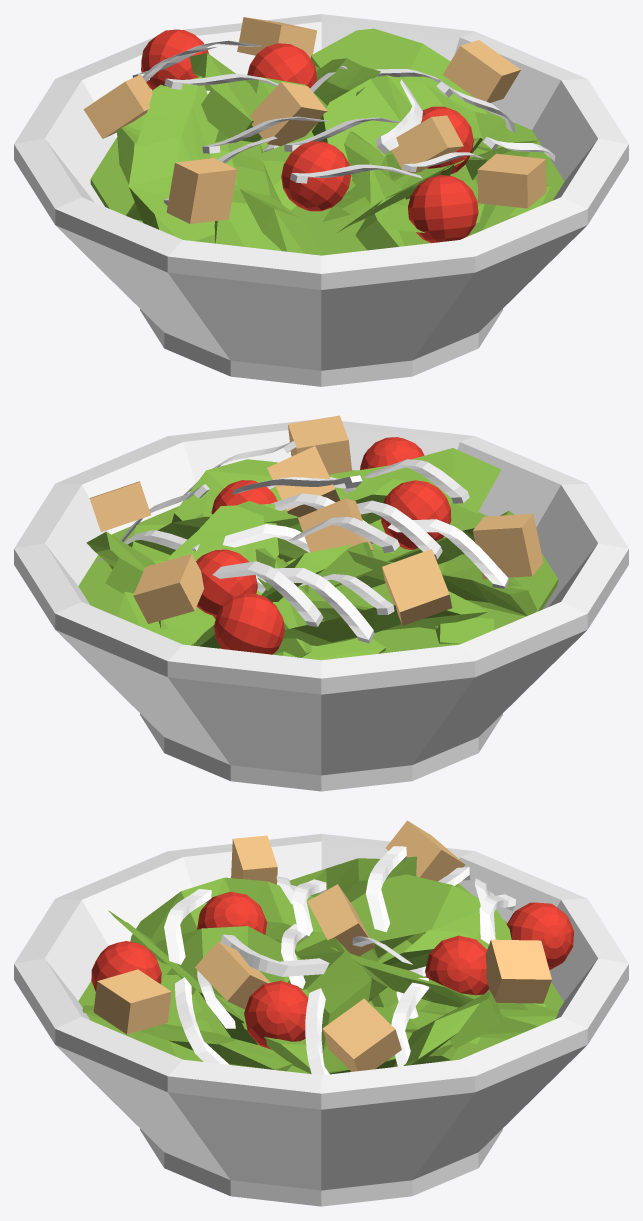
The model's file is Salad Bowl (1).glb.
3 renders of one model, top to bottom at view 1: azimuth 30°, elevation 25°; view 2: azimuth 150°, elevation 25°; view 3: azimuth 270°, elevation 25°, orthographic.
Parts seen in each view (by area): view 1: Node; view 2: Node; view 3: Node.
Boxes of the visible parts, bbox=[...] form: Node: bbox=[14, 14, 628, 386]; Node: bbox=[14, 415, 628, 791]; Node: bbox=[14, 820, 628, 1206].
Size of the model in its own units: 1.04 by 0.4379 by 1.04.
